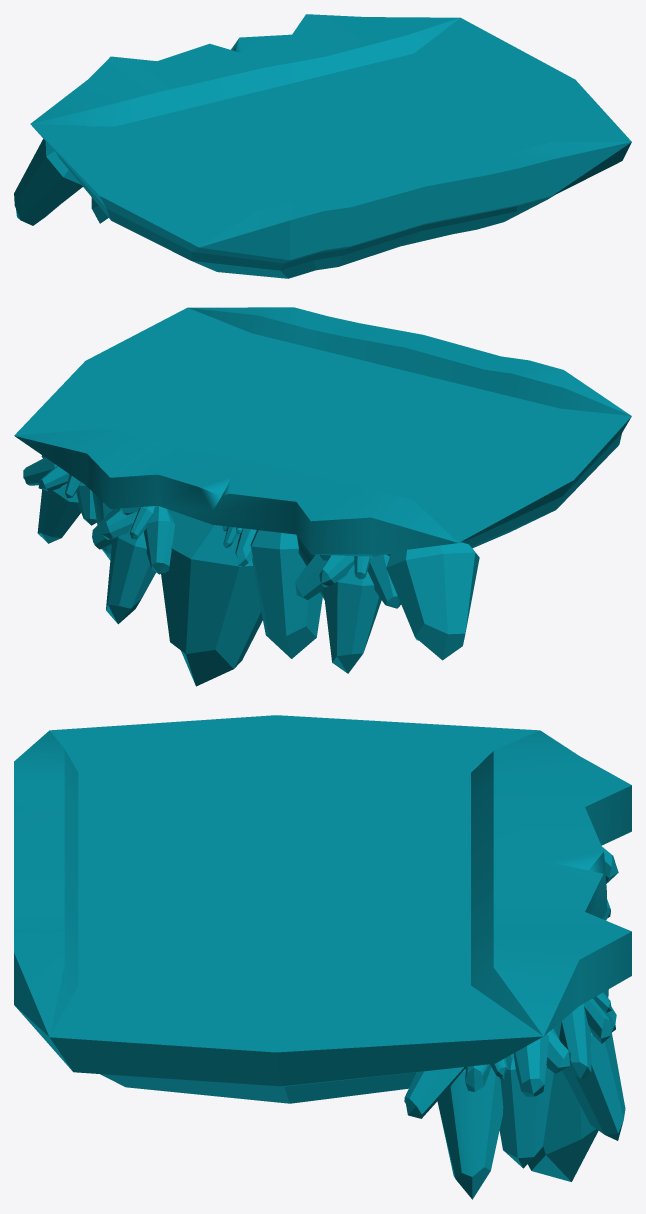
Rendered from Floating_Platfrom_Sml_1.fbx.
3 views of the same model, one above another, from view 1: azimuth 30°, elevation 25°; view 2: azimuth 150°, elevation 25°; view 3: azimuth 270°, elevation 25° (orthographic). The views are drawn at different scales.
Visible parts, largest first — view 1: pCube149; view 2: pCube149; view 3: pCube149.
Part boxes in pixels (x1=…): pCube149: x1=14, y1=14, x2=631, y2=278; pCube149: x1=14, y1=307, x2=631, y2=686; pCube149: x1=14, y1=715, x2=631, y2=1199.
Size of the model in its own units: 1.85 by 0.7778 by 1.43.
